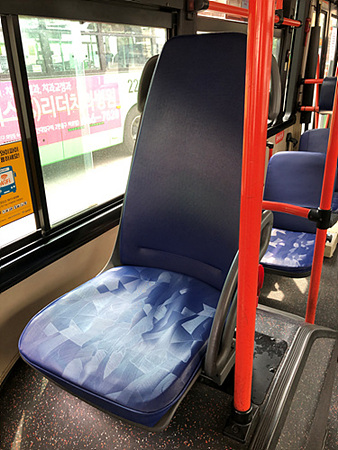seat: (20, 35, 246, 413)
